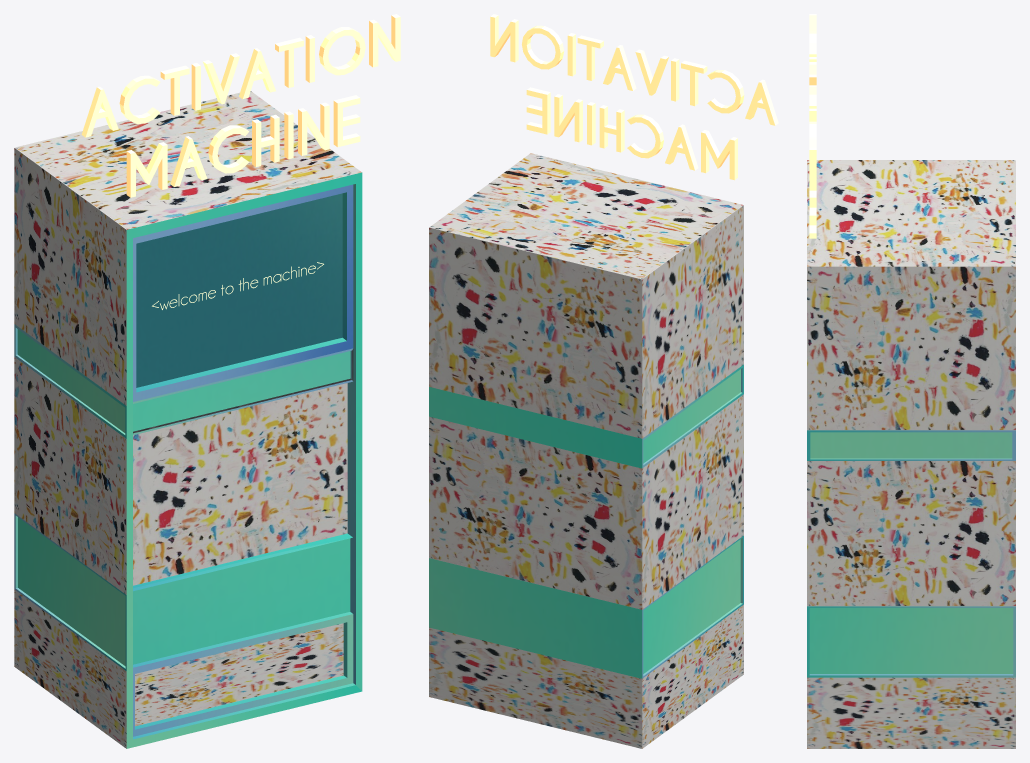
Rendered from machine2_v5.gltf.
3 renders of one model, left to right at view 1: azimuth 30°, elevation 25°; view 2: azimuth 150°, elevation 25°; view 3: azimuth 270°, elevation 25°, orthographic. The views are drawn at different scales.
Visible parts, largest first — view 1: machine, activation; view 2: machine, activation; view 3: machine, activation.
Boxes of the visible parts, x1,y1,x2,y2 form: machine: [14, 91, 362, 748]; activation: [81, 14, 400, 197]; machine: [429, 153, 743, 748]; activation: [490, 14, 778, 180]; machine: [807, 160, 1015, 748]; activation: [809, 14, 816, 238].
Size of what is drawn, in the model's own units: 1.92 by 3.86 by 1.18.
Materials: 4 (3 with a texture image).
